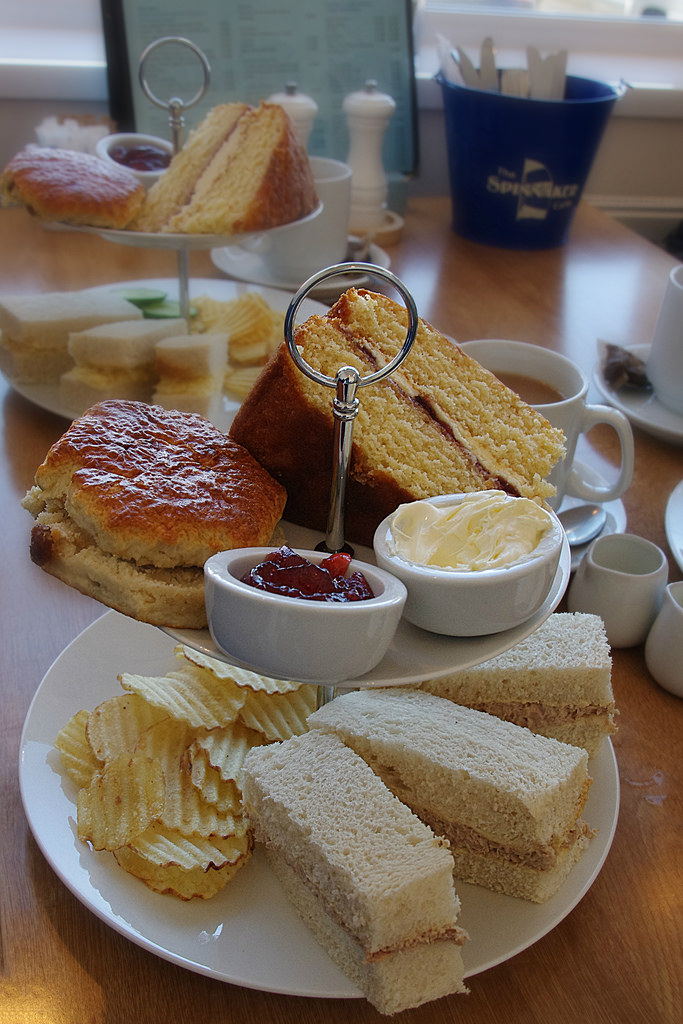slice of bread: (340, 700, 639, 898), (261, 735, 464, 995), (255, 746, 464, 947), (37, 385, 283, 539)
